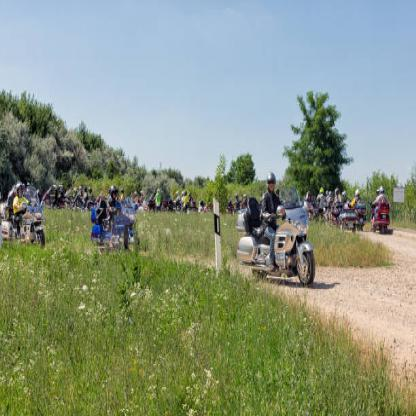Motorcycle: (235, 199, 321, 291)
